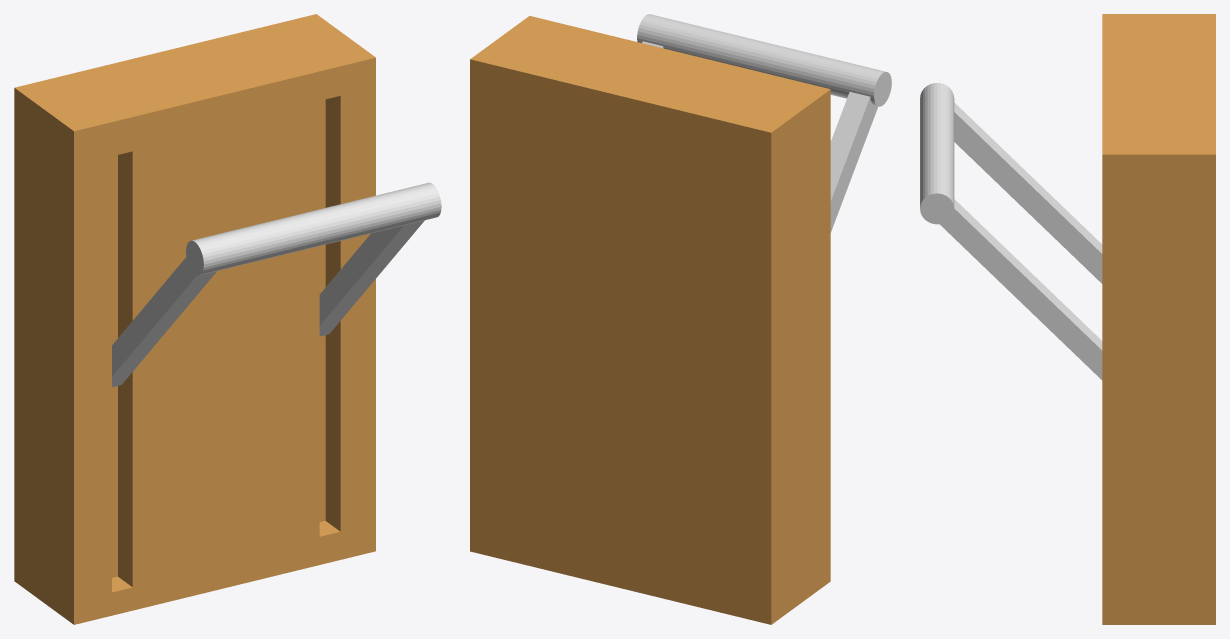
Rendered from throwswitchmount.fbx.
3 views of the same model, side by side, from view 1: azimuth 30°, elevation 25°; view 2: azimuth 150°, elevation 25°; view 3: azimuth 270°, elevation 25° (orthographic). The views are drawn at different scales.
Visible parts, largest first — view 1: Cube, Cylinder; view 2: Cube, Cylinder; view 3: Cube, Cylinder.
Boxes of the visible parts, left/top/right/bottom form: Cube: left=14, top=14, right=375, bottom=624; Cylinder: left=112, top=182, right=441, bottom=386; Cube: left=470, top=16, right=830, bottom=624; Cylinder: left=637, top=14, right=891, bottom=232; Cube: left=1102, top=14, right=1215, bottom=624; Cylinder: left=920, top=83, right=1102, bottom=380.
Size of the model in its own units: 585 by 913 by 520.
